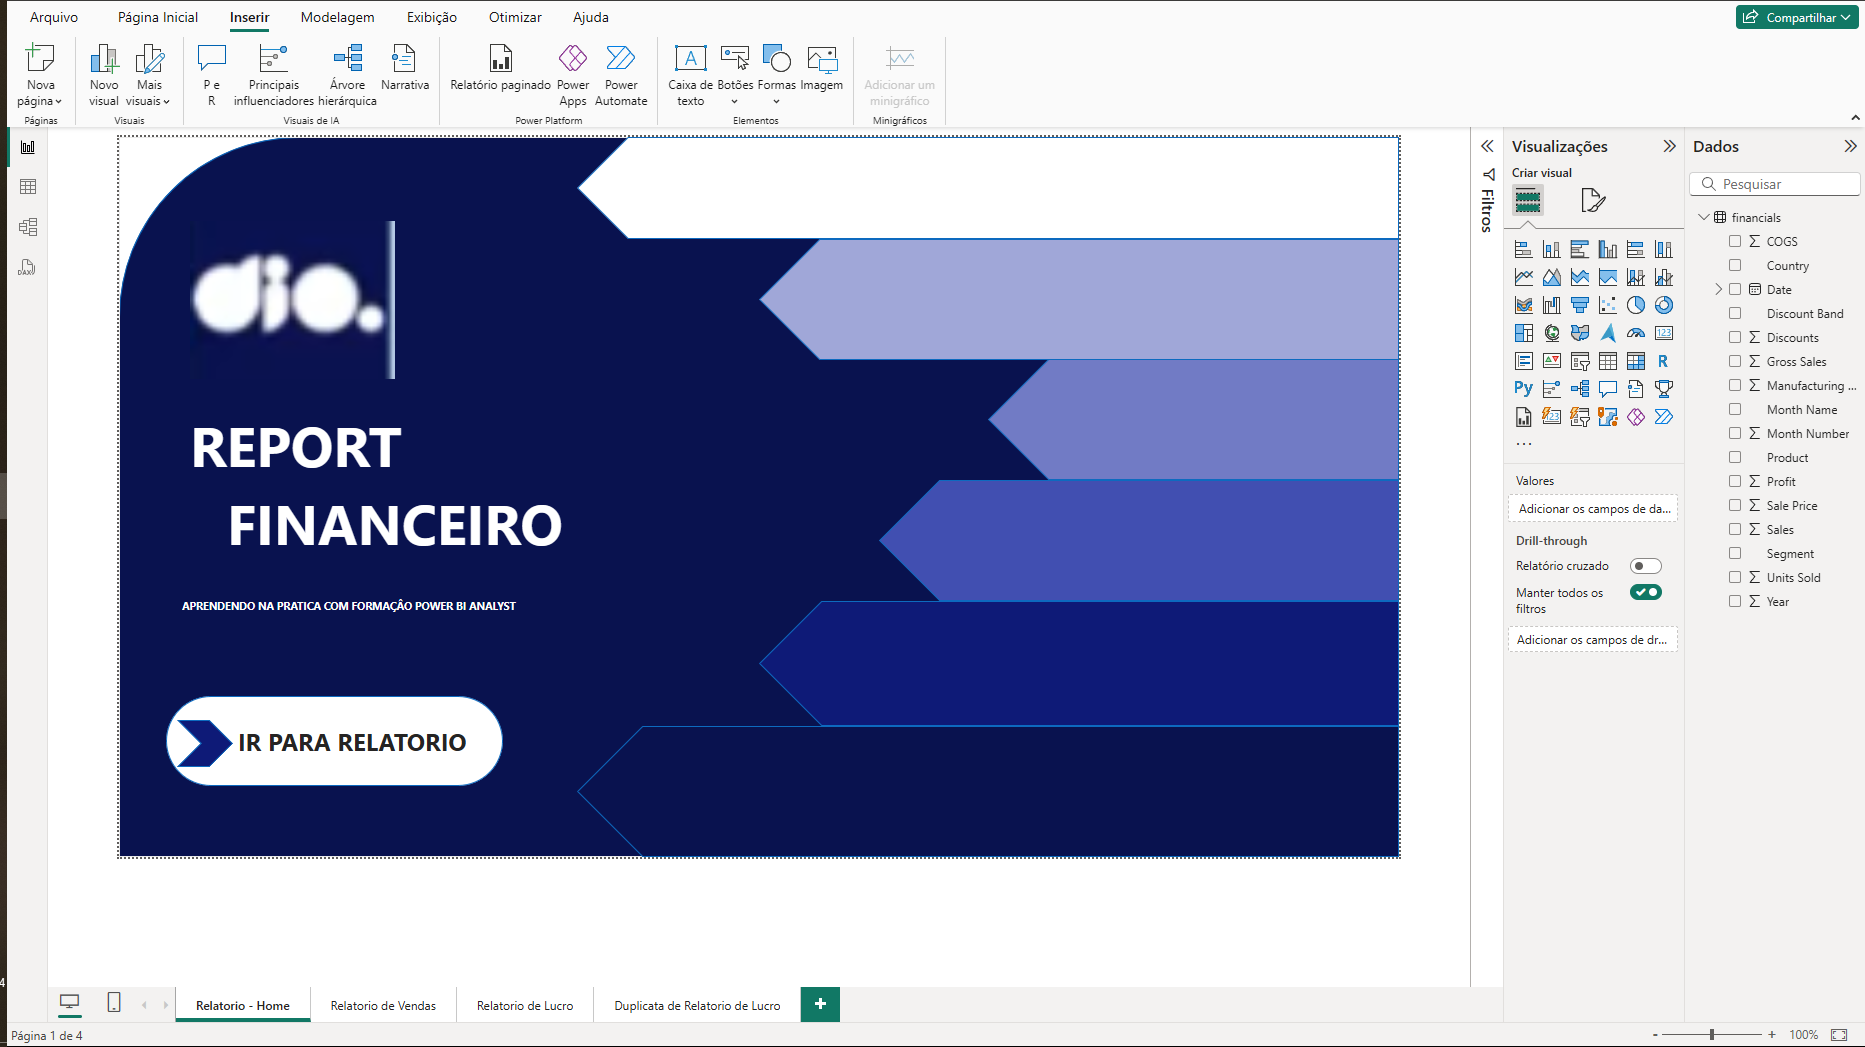

The page's visual inventory and layout, read from the dashboard file:
{"tool":"powerbi","page":{"name":"Relatorio - Home","canvas":[1280,720],"ordinal":0},"visuals":[{"type":"shape","box":[0,0,1280,720],"z":0},{"type":"image","box":[66,73,215,179],"z":1000},{"type":"textbox","box":[66,265,234,95],"z":2000},{"type":"textbox","box":[103,343,355,91],"z":3000},{"type":"textbox","box":[58,454,352,35],"z":4000},{"type":"shape","box":[458,589,822,131],"z":5000},{"type":"shape","box":[47,559,337,90],"z":6000},{"type":"textbox","box":[114,583,240,42],"z":7000},{"type":"shape","box":[640,464,640,125],"z":7001},{"type":"shape","box":[760,343,520,121],"z":7002},{"type":"shape","box":[869,222,411,121],"z":7003},{"type":"shape","box":[640,102,640,121],"z":7004},{"type":"shape","box":[458,0,822,102],"z":7005},{"type":"shape","box":[58,583,56,47],"z":7006}]}

Visuals, with their boxes on the page's 1280x720 design canvas (x1, y1, x2, y2). These are canvas units, not pixel positions in the 1865x1047 screenshot, which may show the page scaled, cropped or inside an application window:
shape: (0,0,1280,720)
image: (66,73,281,252)
textbox: (66,265,300,360)
textbox: (103,343,458,434)
textbox: (58,454,410,489)
shape: (458,589,1280,720)
shape: (47,559,384,649)
textbox: (114,583,354,625)
shape: (640,464,1280,589)
shape: (760,343,1280,464)
shape: (869,222,1280,343)
shape: (640,102,1280,223)
shape: (458,0,1280,102)
shape: (58,583,114,630)
